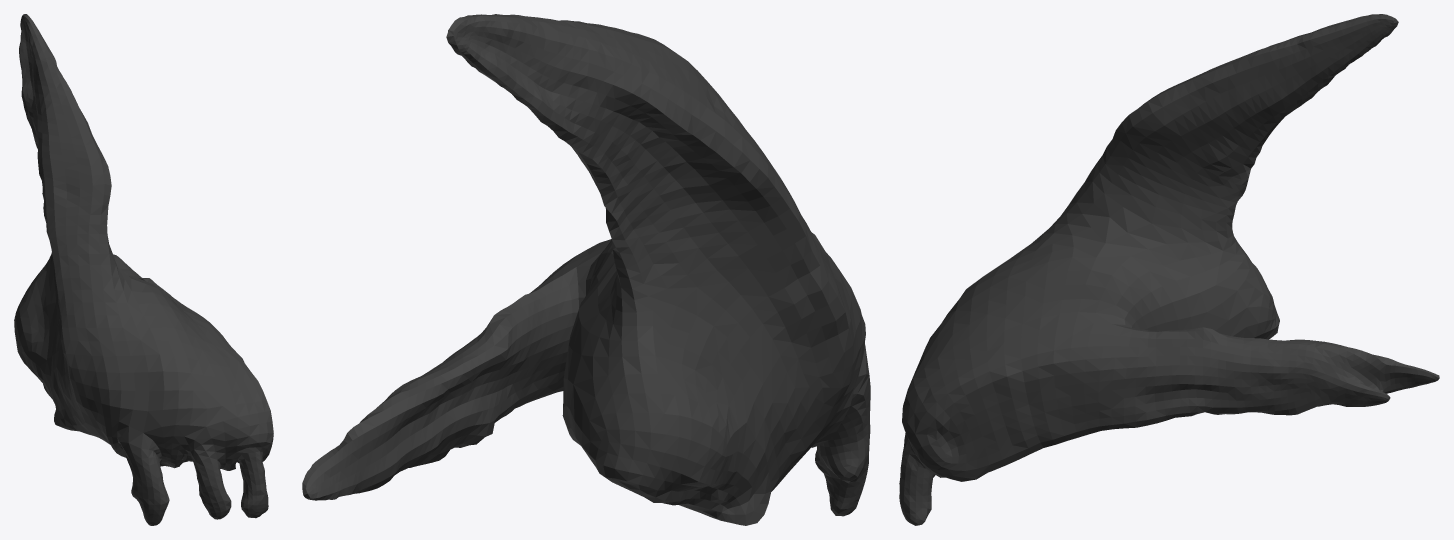
File: Incisive_R.glb
3 renders of one model, left to right at view 1: azimuth 30°, elevation 25°; view 2: azimuth 150°, elevation 25°; view 3: azimuth 270°, elevation 25°, orthographic. The views are drawn at different scales.
Parts seen in each view (by area): view 1: Incisive_R; view 2: Incisive_R; view 3: Incisive_R.
Part boxes in pixels (x1=…): Incisive_R: x1=14, y1=14, x2=273, y2=525; Incisive_R: x1=302, y1=14, x2=870, y2=525; Incisive_R: x1=899, y1=14, x2=1439, y2=525.
Bounding box in the file's own units: 99.92 × 232 × 236.
1 material, 1 textured.
